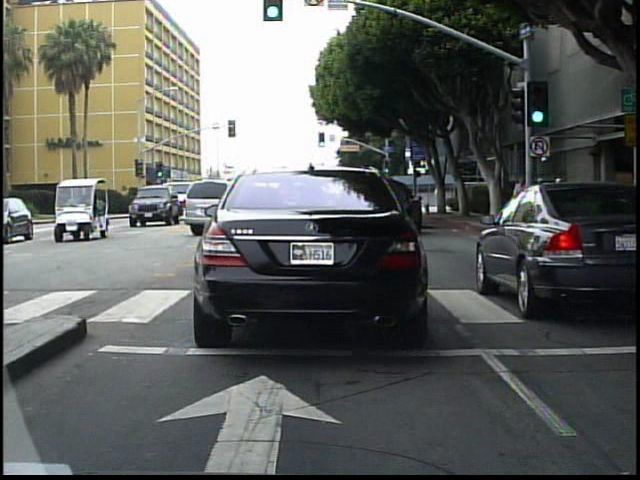person: (511, 174, 532, 227), (435, 184, 449, 213)
